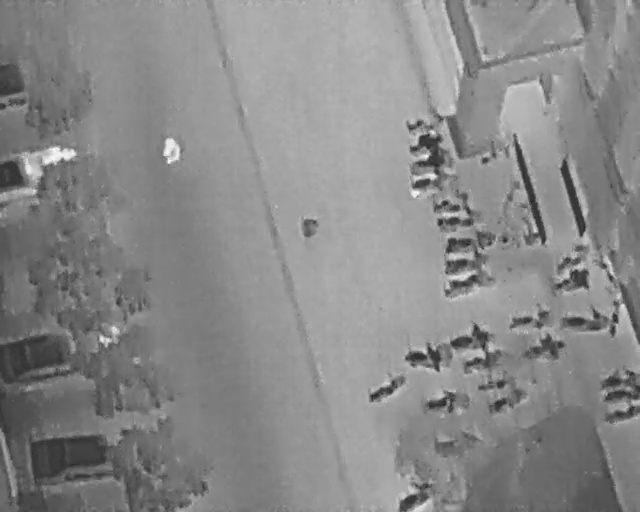Bicycle: (360, 366, 412, 410), (516, 328, 570, 368), (446, 318, 495, 357), (559, 302, 614, 336), (503, 299, 554, 335), (422, 382, 470, 420), (482, 383, 532, 419), (438, 269, 486, 303), (551, 263, 594, 299), (405, 169, 456, 198), (457, 347, 503, 378), (402, 341, 444, 373), (471, 369, 515, 398), (405, 146, 450, 174), (397, 479, 436, 510), (428, 191, 472, 216), (433, 209, 476, 232), (405, 131, 444, 155), (552, 249, 586, 275), (442, 234, 482, 256), (599, 368, 639, 390), (441, 256, 482, 275), (604, 403, 639, 424), (403, 114, 434, 137), (601, 387, 639, 403), (478, 229, 497, 249)
Car: (25, 427, 143, 491), (0, 329, 95, 385), (0, 143, 82, 205), (0, 62, 31, 111)
Person: (159, 135, 183, 164)
